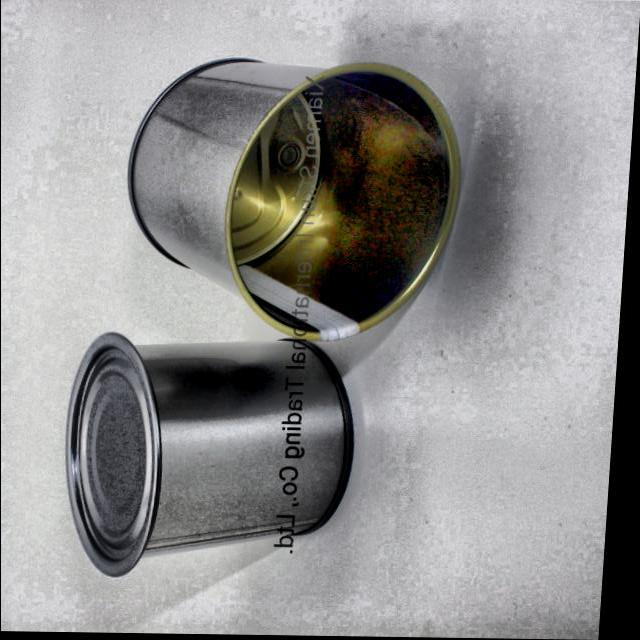litter: (114, 46, 476, 350), (54, 322, 368, 585)
